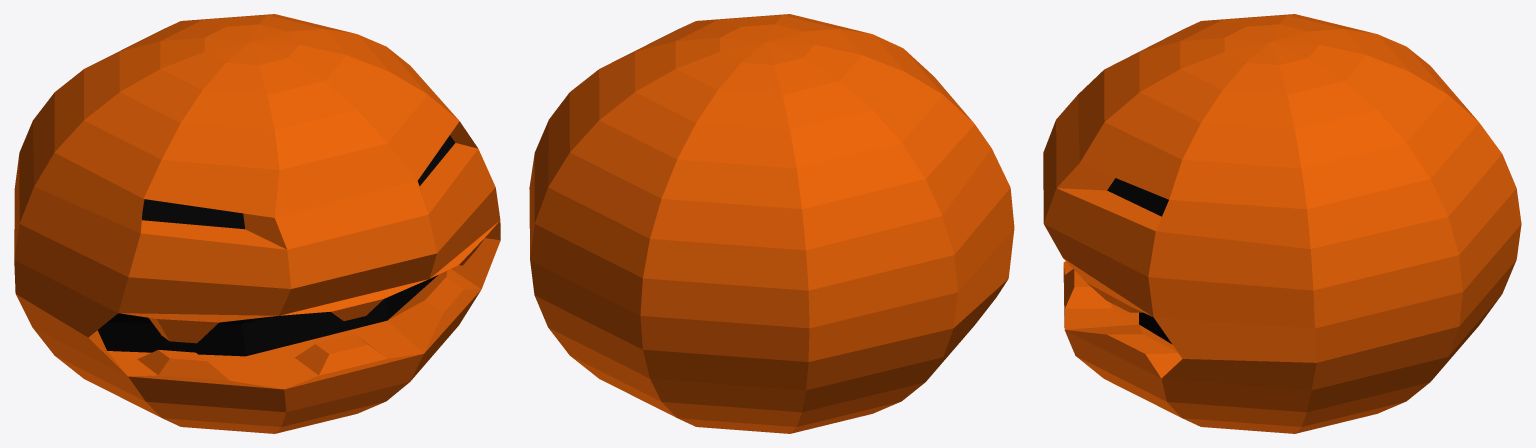
The model's file is pumpa.fbx.
3 renders of one model, left to right at view 1: azimuth 30°, elevation 25°; view 2: azimuth 150°, elevation 25°; view 3: azimuth 270°, elevation 25°, orthographic.
Visible parts, largest first — view 1: Sphere; view 2: Sphere; view 3: Sphere.
Boxes of the visible parts, x1,y1,x2,y2 form: Sphere: (14,14,500,433); Sphere: (529,14,1014,433); Sphere: (1043,14,1521,433).
Size of the model in its own units: 182 by 148 by 176.
